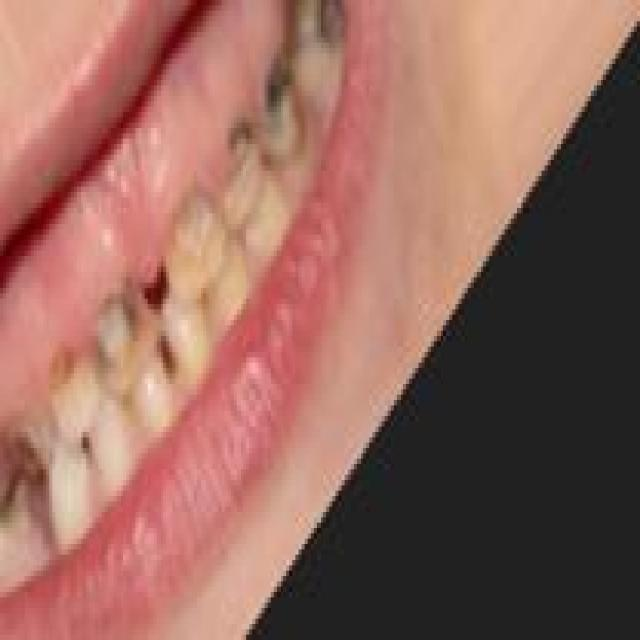caries: (90, 272, 161, 398), (159, 187, 229, 300), (256, 44, 312, 179), (0, 407, 52, 528), (217, 116, 270, 234), (44, 336, 90, 444)
